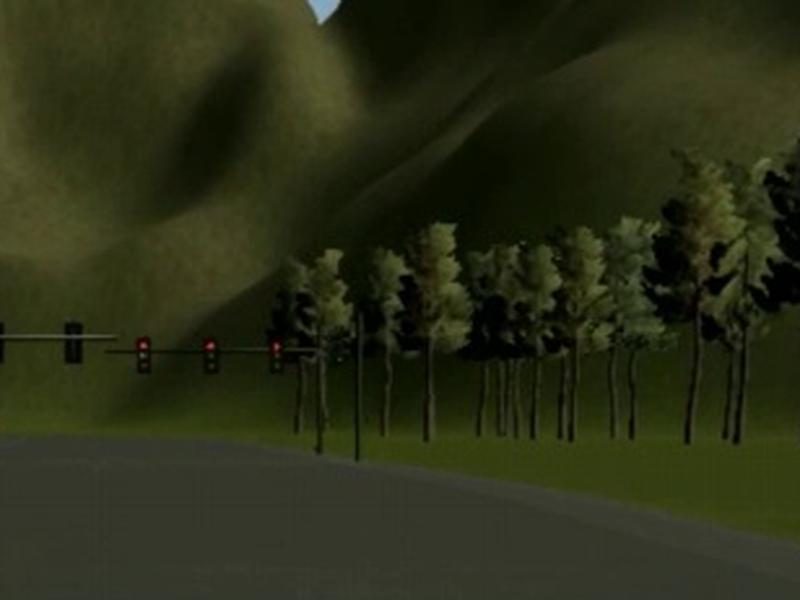Red: (268, 336, 285, 376), (136, 337, 153, 374), (203, 336, 219, 374)
